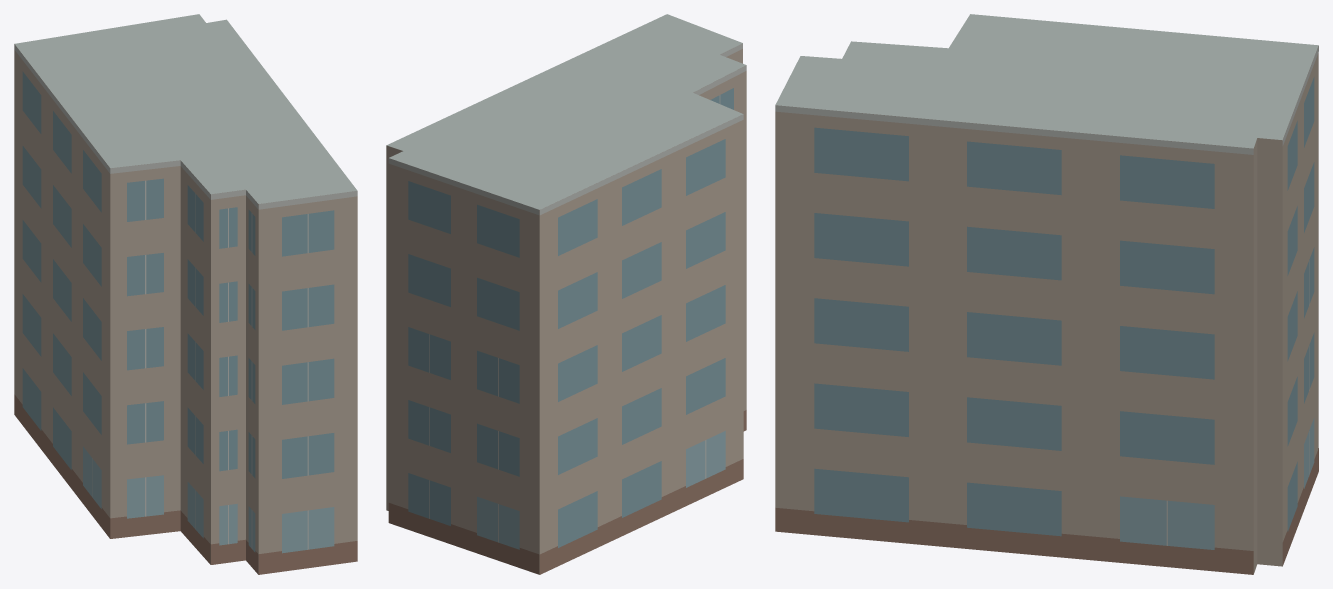
Rendered from survey-upis-32488587.glb.
3 views of the same model, side by side, from view 1: azimuth 30°, elevation 25°; view 2: azimuth 150°, elevation 25°; view 3: azimuth 270°, elevation 25° (orthographic). The views are drawn at different scales.
Visible parts, largest first — view 1: survey-upis-32488587.tmp; view 2: survey-upis-32488587.tmp; view 3: survey-upis-32488587.tmp.
Boxes of the visible parts, x1,y1,x2,y2 form: survey-upis-32488587.tmp: [14, 14, 357, 574]; survey-upis-32488587.tmp: [386, 14, 746, 574]; survey-upis-32488587.tmp: [775, 14, 1318, 574].
Size of the model in its own units: 10.9 by 16.1 by 18.61.
